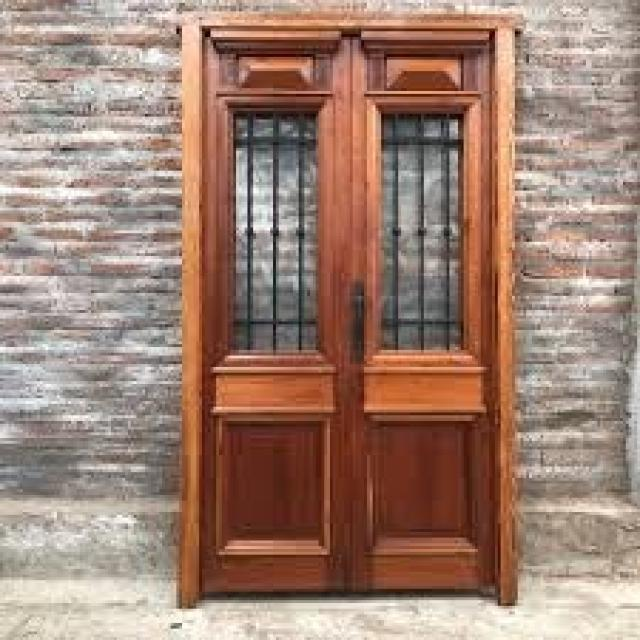door: (185, 18, 515, 604)
